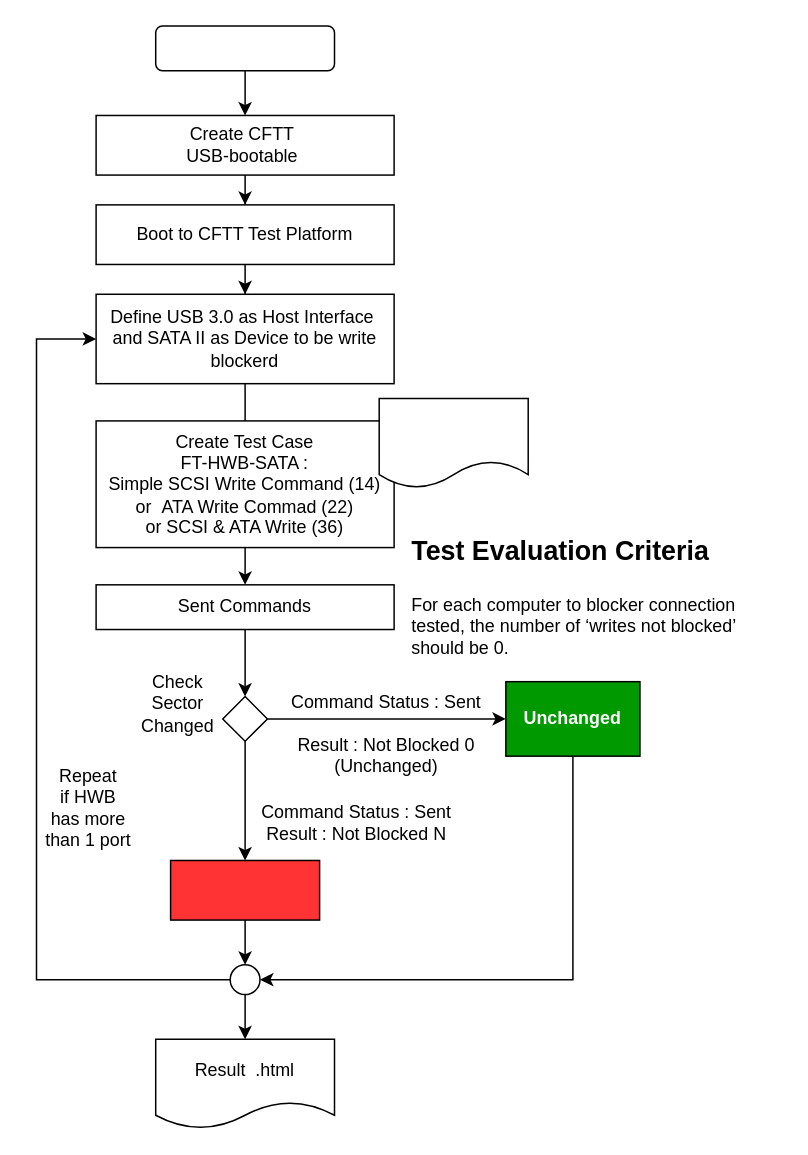
This 808x1155 diagram has some shape labels left out. Each missing label, with the centre of its shape:
"FW-HWB-SATA test case file" belongs at point 453,442.
"NIST CFTT" belongs at point 244,48.
"Not Blocked N" belongs at point 244,889.
